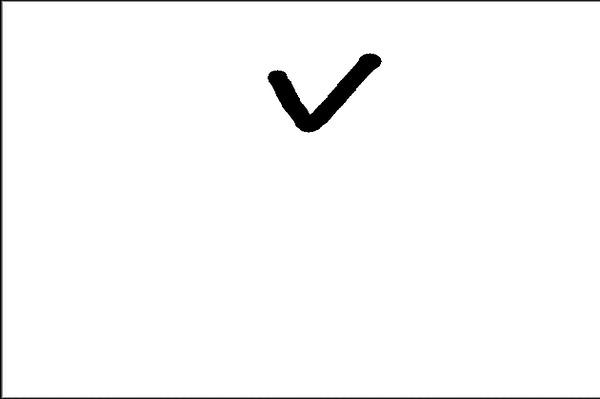V: (254, 34, 399, 151)
